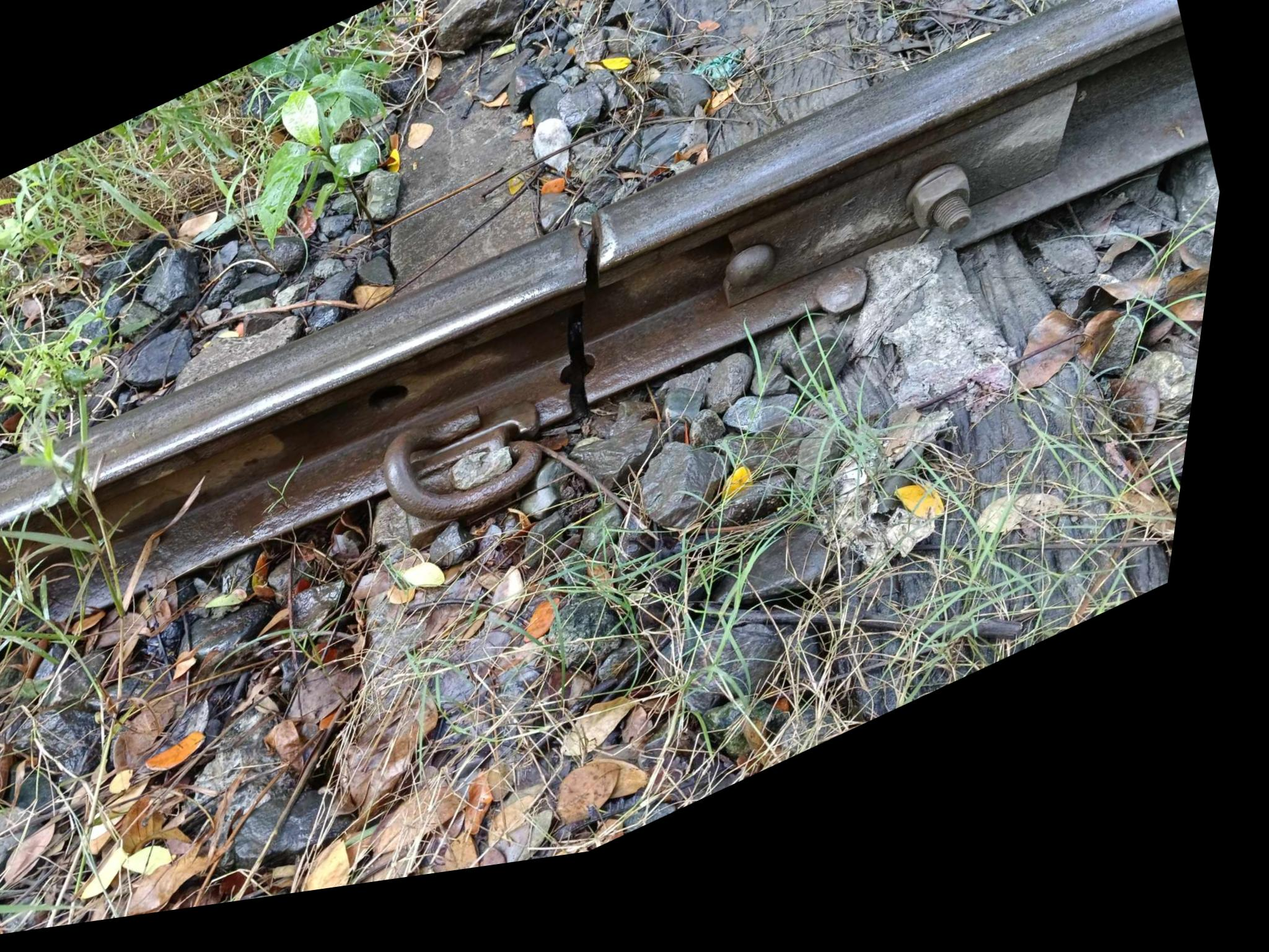person: (440, 177, 743, 487)
